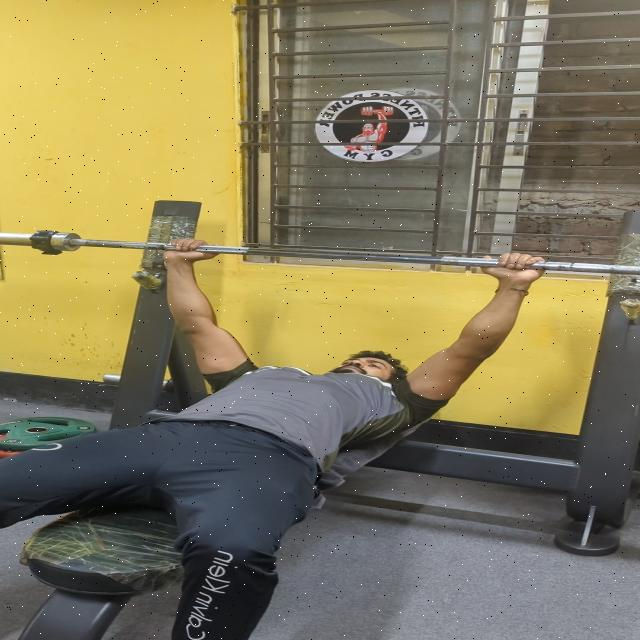Normal_BrenchPress: (0, 200, 605, 640)
